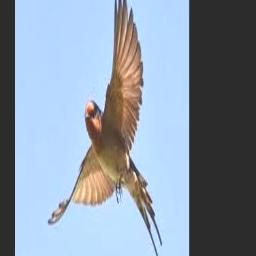Swallow: (47, 0, 162, 256)
